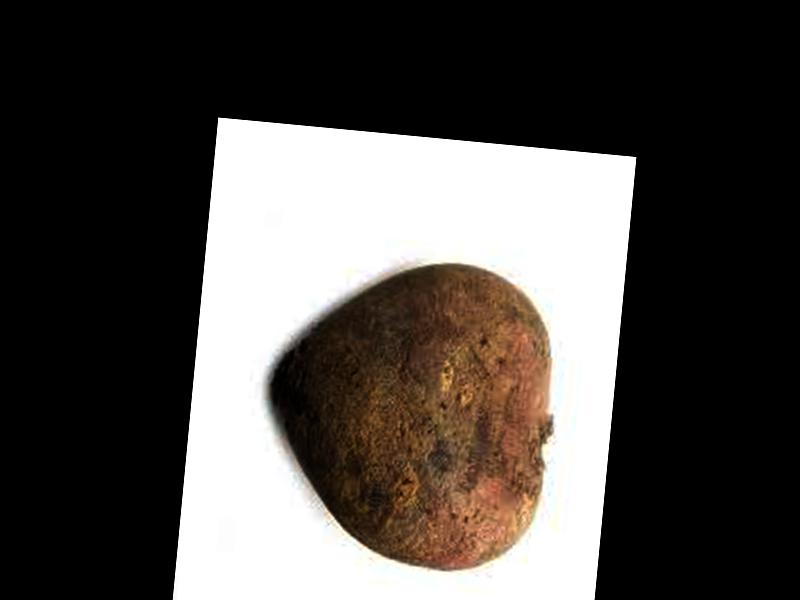Beet: (257, 245, 564, 579)
